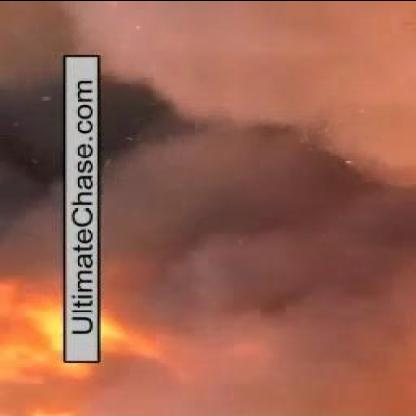-: (113, 15, 385, 401), (3, 57, 58, 292)
